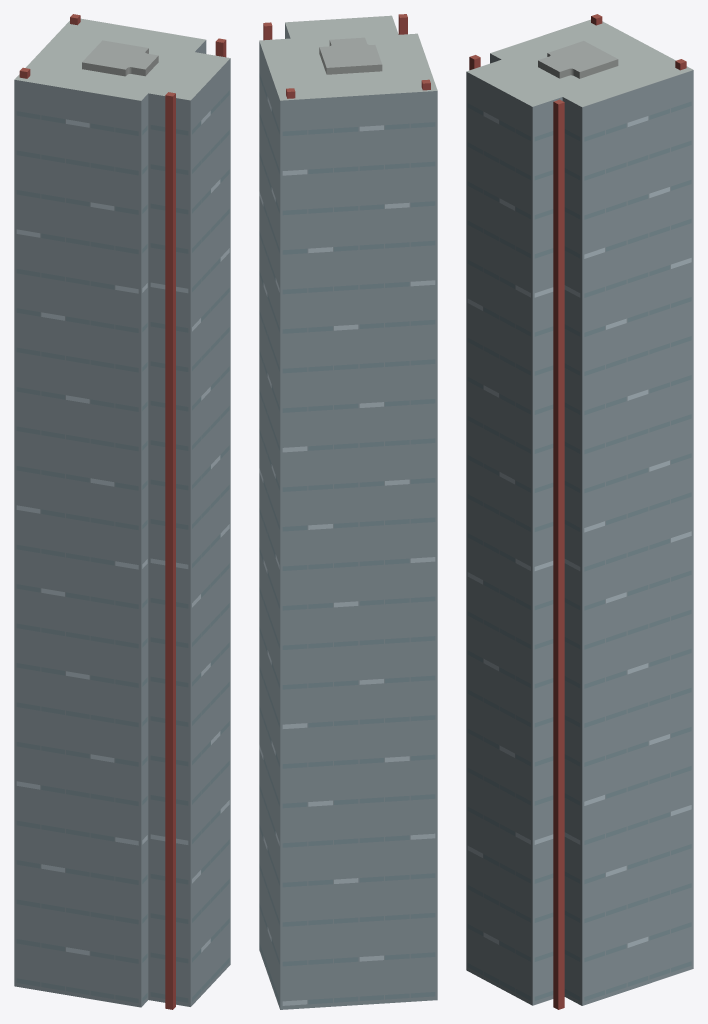
The model's file is landmark-e1887ed4-99cc-48d5-81e4-9dd5405c0030.glb.
3 renders of one model, left to right at view 1: azimuth 30°, elevation 25°; view 2: azimuth 150°, elevation 25°; view 3: azimuth 270°, elevation 25°, orthographic.
Visible parts, largest first — view 1: landmark-e1887ed4-99cc-48d5-81e4-9dd5405c0030; view 2: landmark-e1887ed4-99cc-48d5-81e4-9dd5405c0030; view 3: landmark-e1887ed4-99cc-48d5-81e4-9dd5405c0030.
Part boxes in pixels (bbox=[...]): landmark-e1887ed4-99cc-48d5-81e4-9dd5405c0030: bbox=[14, 14, 230, 1009]; landmark-e1887ed4-99cc-48d5-81e4-9dd5405c0030: bbox=[259, 14, 437, 1009]; landmark-e1887ed4-99cc-48d5-81e4-9dd5405c0030: bbox=[466, 14, 693, 1009].
Bounding box in the file's own units: 71.18 × 322 × 73.32.
